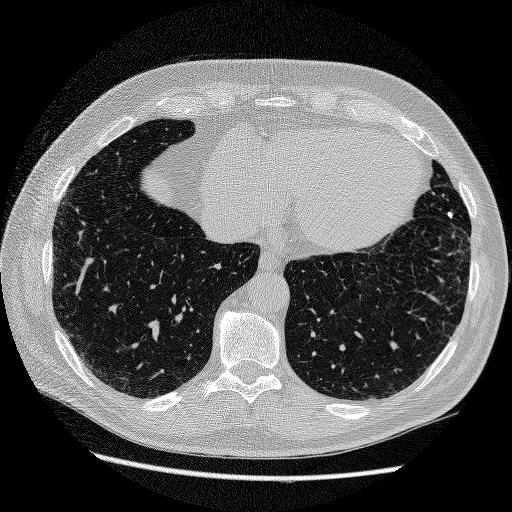nodule: (445, 210, 455, 220)
